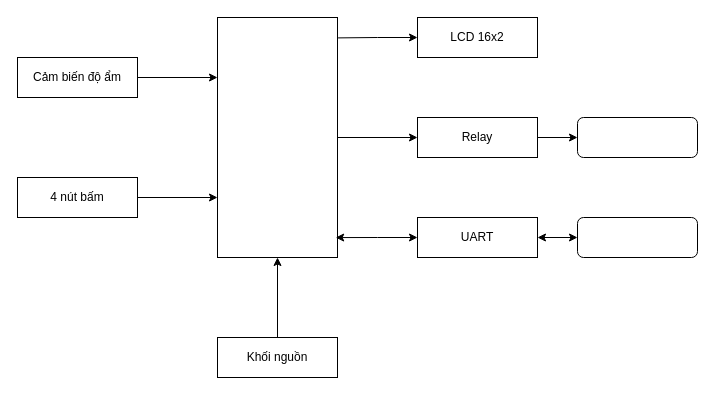
Image size: 715x395. Some labels were removed from this diagram. Here are the shapes that lost their labels. From the top down, the centre of each, then its label:
At point (277, 137): "STM32 (FreeRTOS)".
At point (637, 137): "Máy bơm".
At point (637, 237): "Máy tính".
